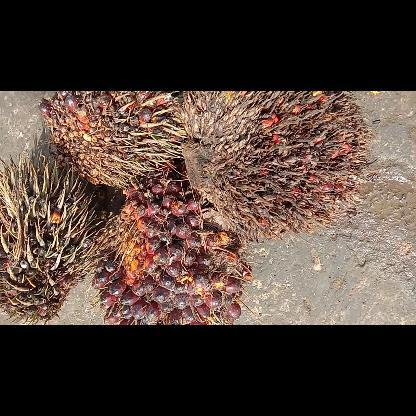Kurang masak: (1, 152, 91, 322)
TBS abnormal: (181, 90, 375, 238), (37, 90, 185, 188)
Terlalu masak: (94, 178, 250, 324)
